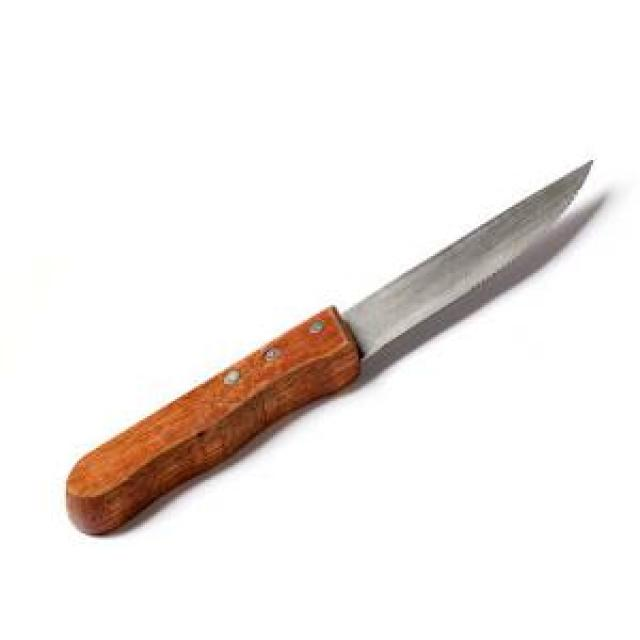knife: (41, 128, 616, 557)
